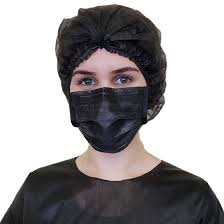with_mask_and_cap: (58, 5, 151, 153)
